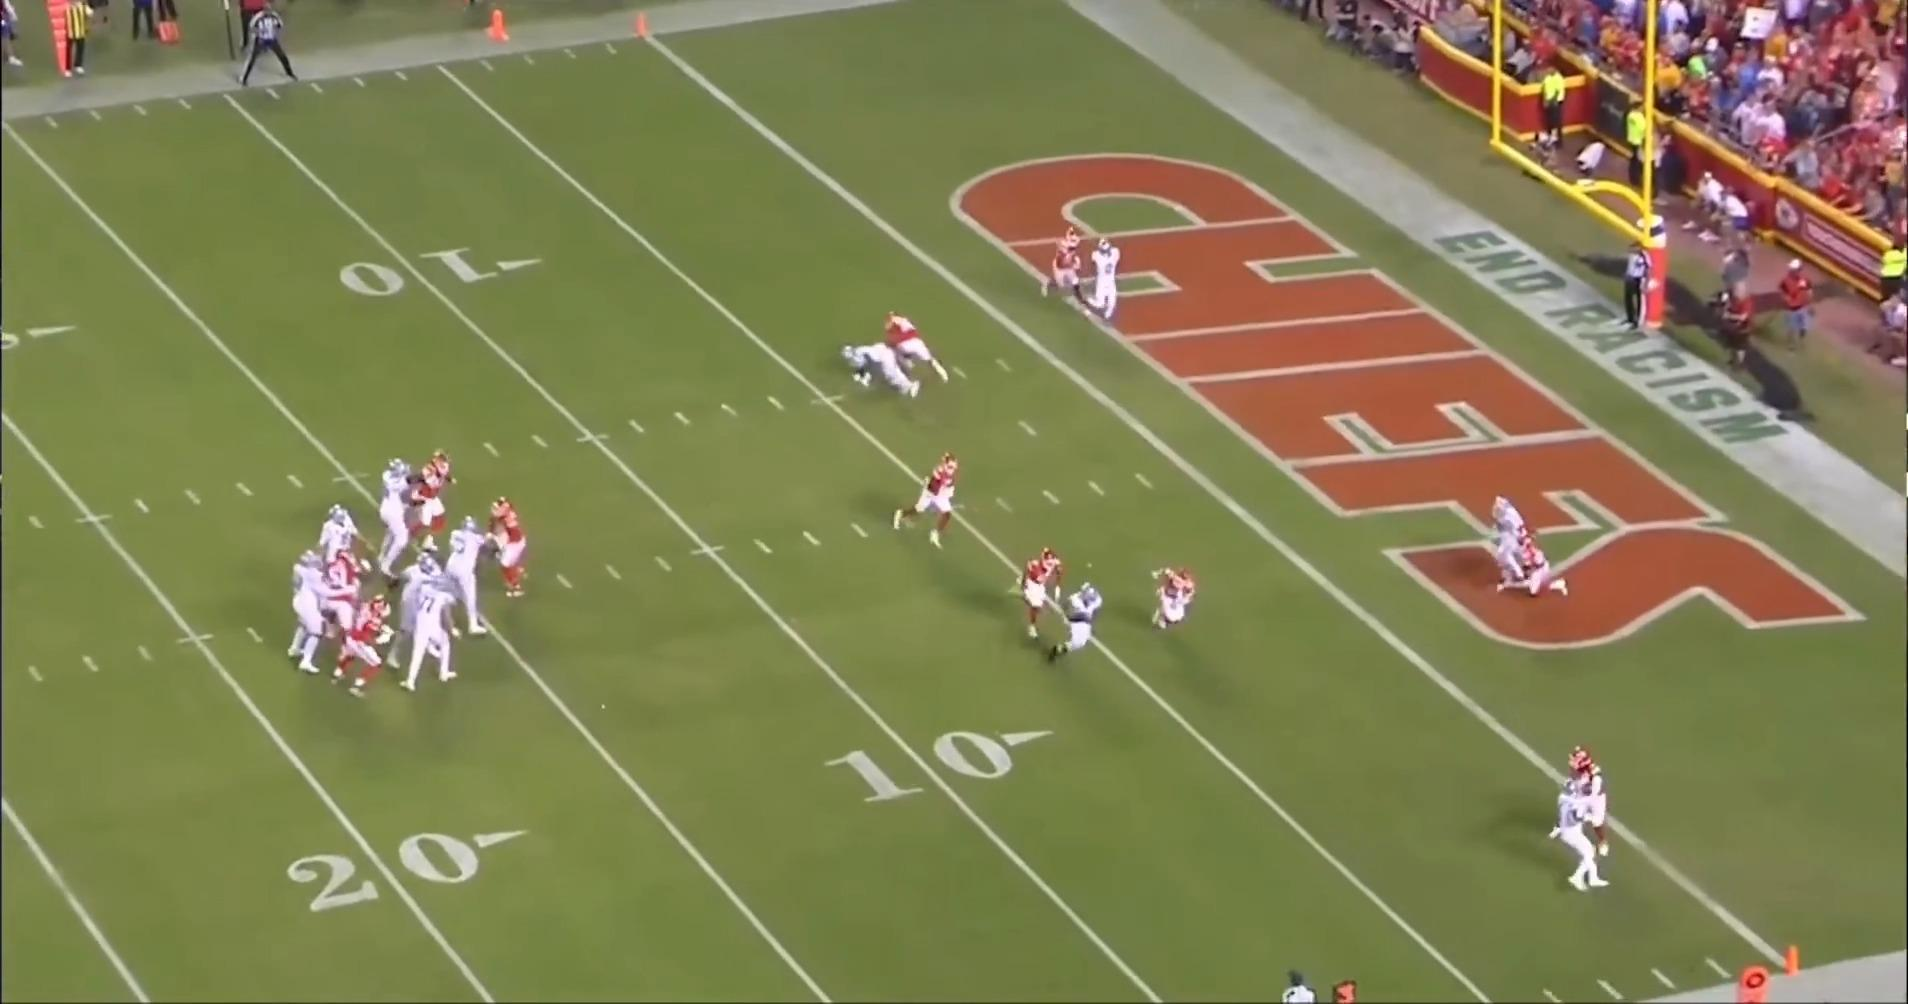defense: (904, 452, 975, 551), (1556, 749, 1613, 864), (488, 491, 539, 603), (1499, 531, 1577, 602), (876, 308, 946, 382), (1020, 546, 1071, 641), (1044, 230, 1099, 310), (415, 449, 461, 544), (392, 550, 448, 624), (1156, 570, 1206, 641), (326, 542, 363, 633)
oline: (328, 592, 399, 699), (405, 566, 464, 691), (381, 452, 437, 579), (435, 515, 488, 641), (284, 546, 327, 679)
qb: (309, 501, 365, 594)
ref: (242, 3, 308, 88), (1610, 236, 1652, 338), (1277, 966, 1328, 1003)
skill: (1487, 492, 1563, 597), (1550, 786, 1615, 899), (1044, 580, 1105, 666), (848, 342, 926, 401), (1090, 238, 1127, 327)
